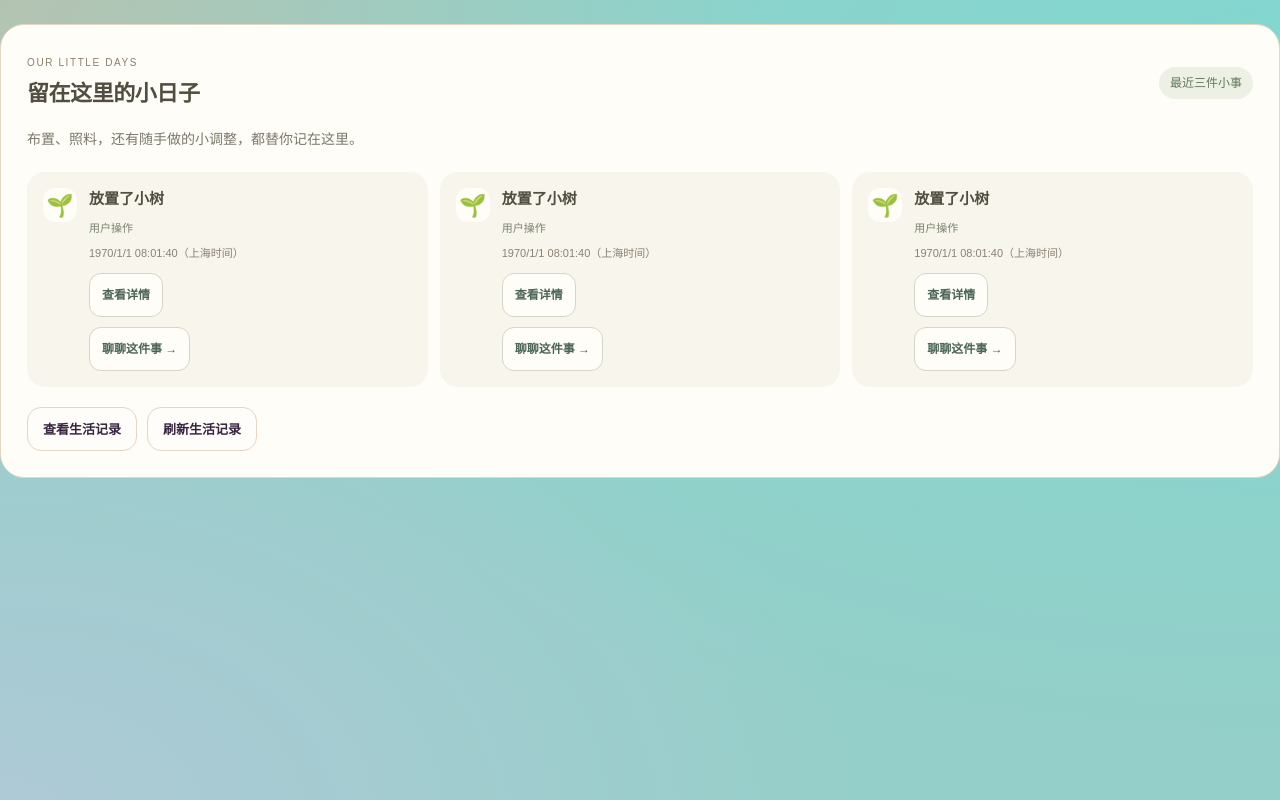
Test: exposes chat only with private companion context and discards a preview when hidden
Expected: the button "查看生活记录" is shown, [27,408,137,452]
Click the 1st button "聊聊这件事 →".
click(140, 350)  # box [89,328,190,372]
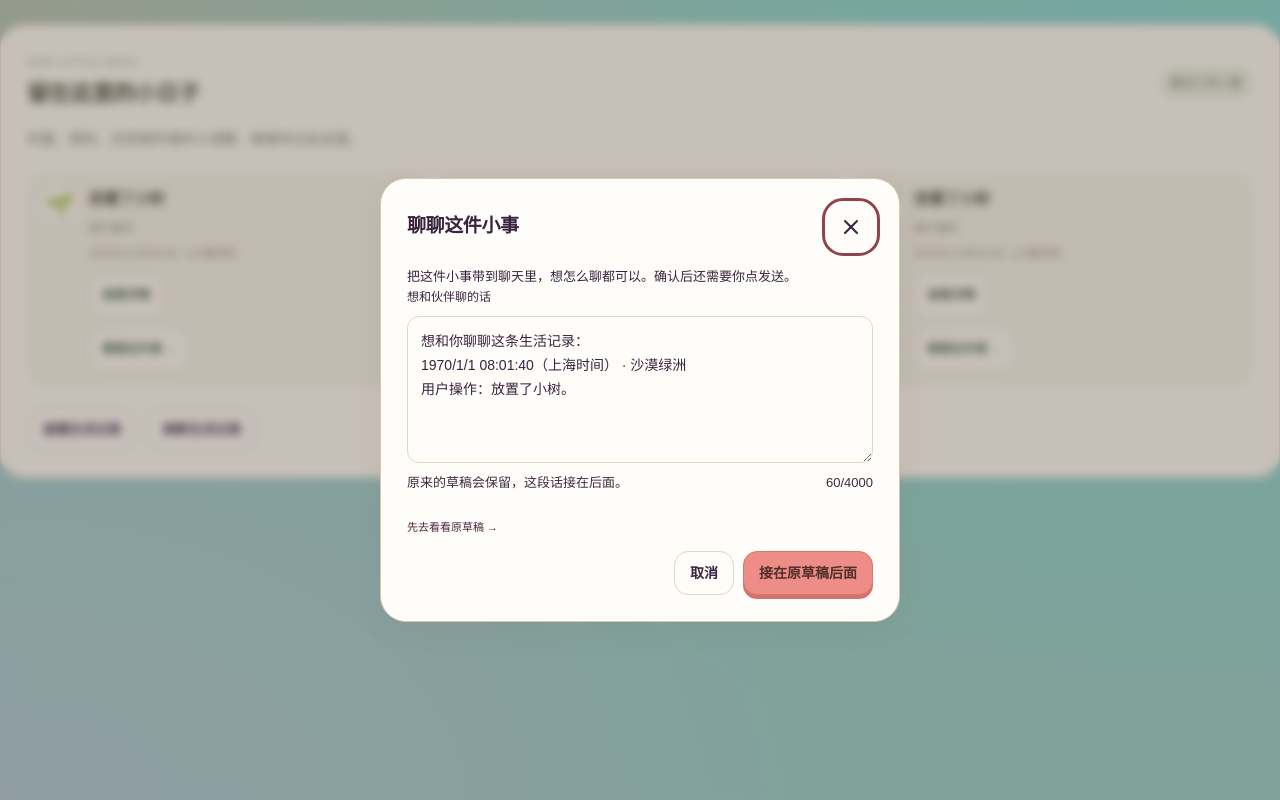
Now the dialog is shown, box [380,178,900,622]
